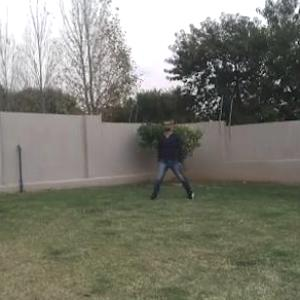follow: (157, 114, 179, 201)
